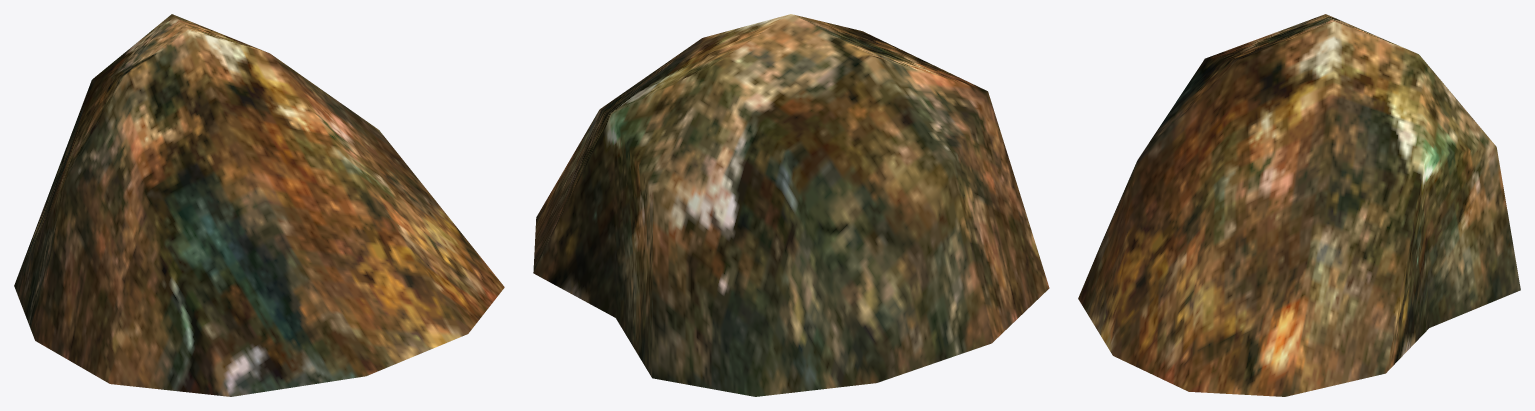
File: c_stone05.glb
3 views of the same model, side by side, from view 1: azimuth 30°, elevation 25°; view 2: azimuth 150°, elevation 25°; view 3: azimuth 270°, elevation 25° (orthographic). The views are drawn at different scales.
Visible parts, largest first — view 1: c_stone05-col; view 2: c_stone05-col; view 3: c_stone05-col.
Boxes of the visible parts, box(x1,y1,x2,y2) form: c_stone05-col: box(14, 14, 504, 396); c_stone05-col: box(533, 14, 1049, 396); c_stone05-col: box(1078, 14, 1520, 396).
Size of the model in its own units: 0.4486 by 0.2672 by 0.4206.
Materials: 1 (1 with a texture image).
